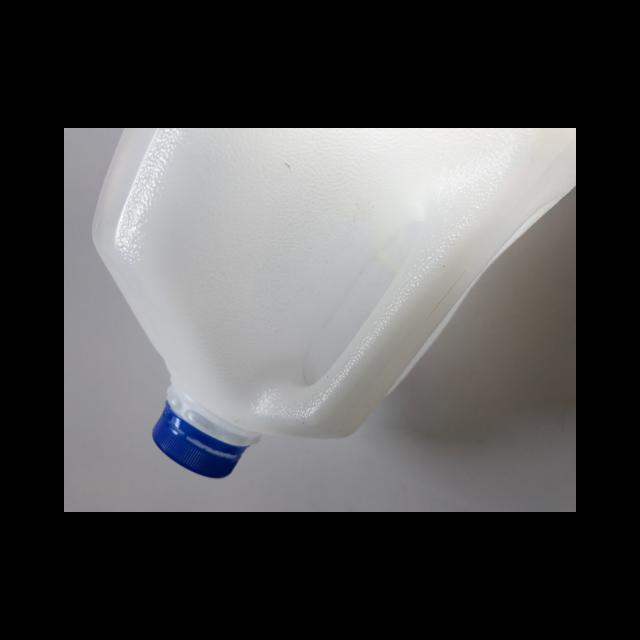plastic: (89, 128, 575, 478), (150, 399, 248, 478)
